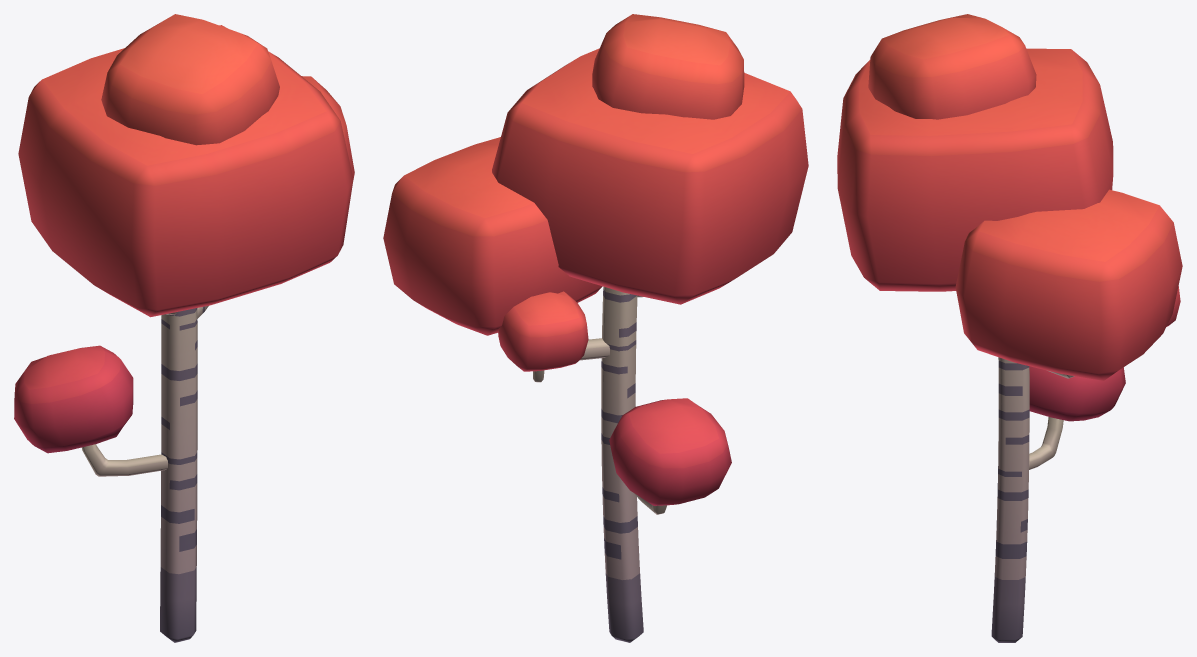
File: birch_red.glb
The picture shows the model from 3 angles, left to right: view 1: azimuth 30°, elevation 25°; view 2: azimuth 150°, elevation 25°; view 3: azimuth 270°, elevation 25°; orthographic projection. The views are drawn at different scales.
Parts seen in each view (by area): view 1: birch_tree_SC_free_birch_red_mat_0; view 2: birch_tree_SC_free_birch_red_mat_0; view 3: birch_tree_SC_free_birch_red_mat_0.
Part boxes in pixels (x1,y1,x2,y2): birch_tree_SC_free_birch_red_mat_0: (14, 14, 354, 642); birch_tree_SC_free_birch_red_mat_0: (383, 14, 808, 642); birch_tree_SC_free_birch_red_mat_0: (837, 14, 1182, 642).
Size of the model in its own units: 26.3 by 46.85 by 24.17.
1 material, 1 textured.
